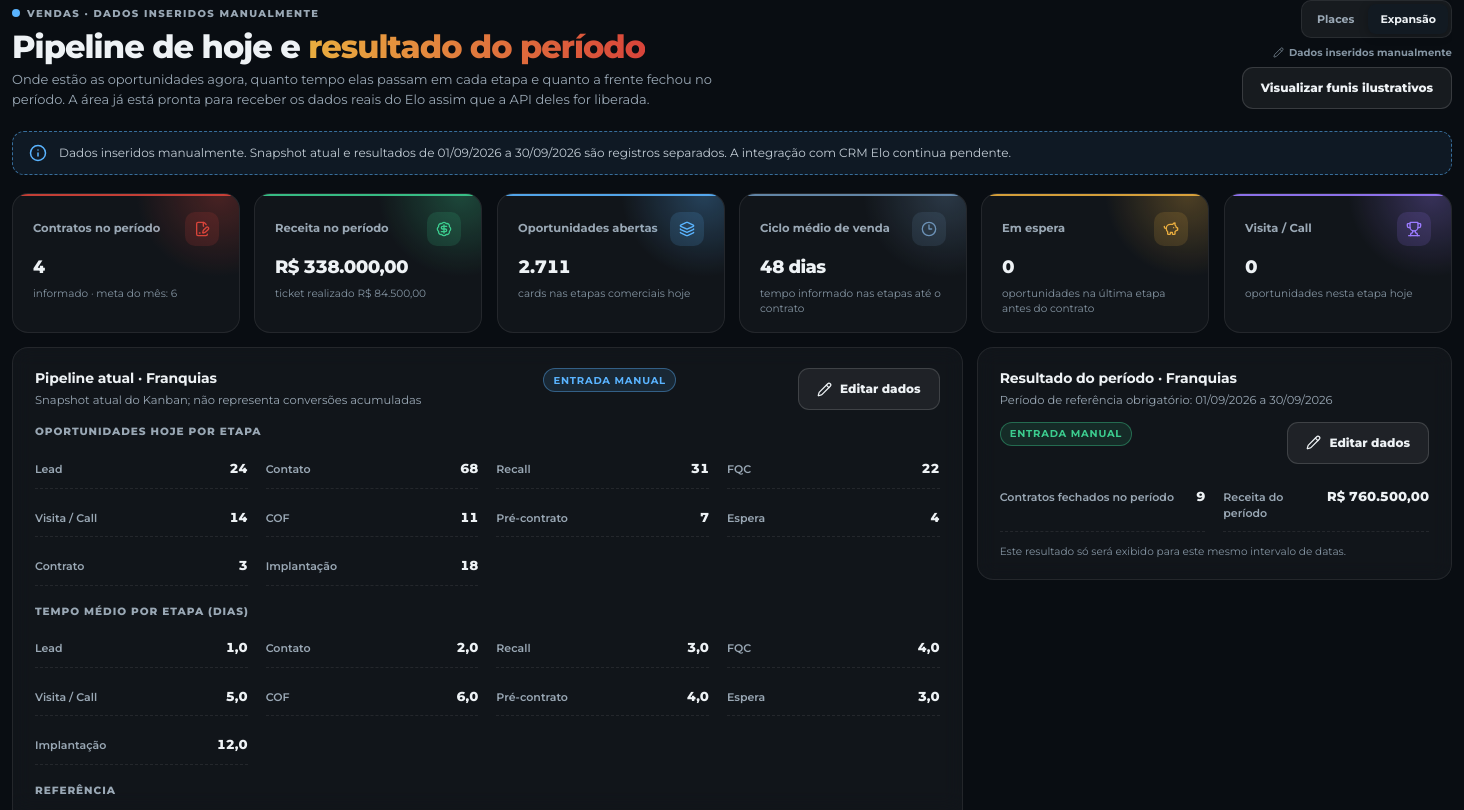
Scenario: editor manual em demonstracao › expõe uma caixa para cada etapa do kanban
The image size is (1464, 810).
Click the button "Editar dados" in the row of "Pipeline atual · Franquias". click: (869, 389)
box: 798,368 -> 940,410
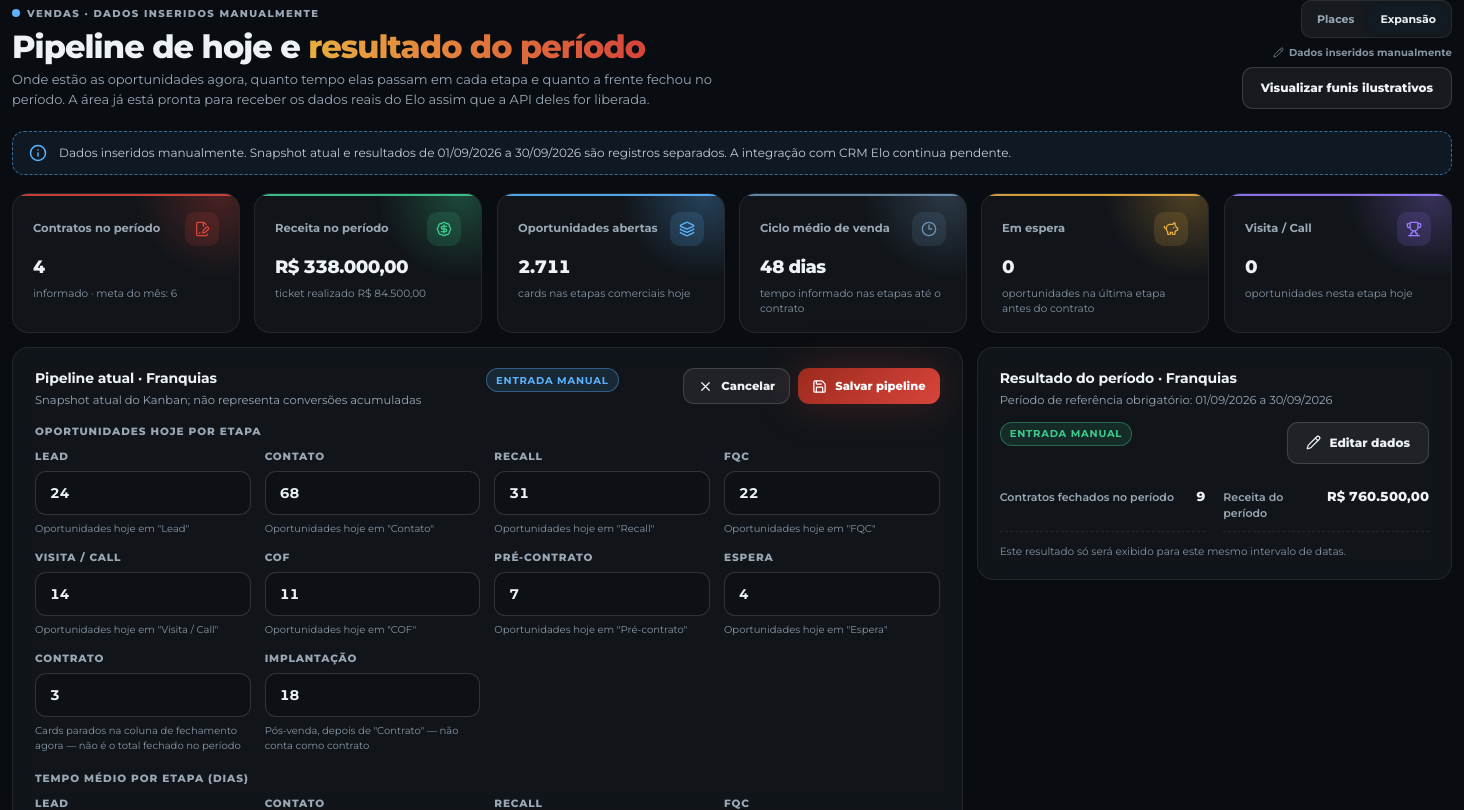
Check: the number field labelled "Lead" is shown, box 35,471 -> 251,515
Check: the number field labelled "Contato" is shown, box 265,471 -> 480,515
Check: the number field labelled "Recall" is shown, box 494,471 -> 710,515
